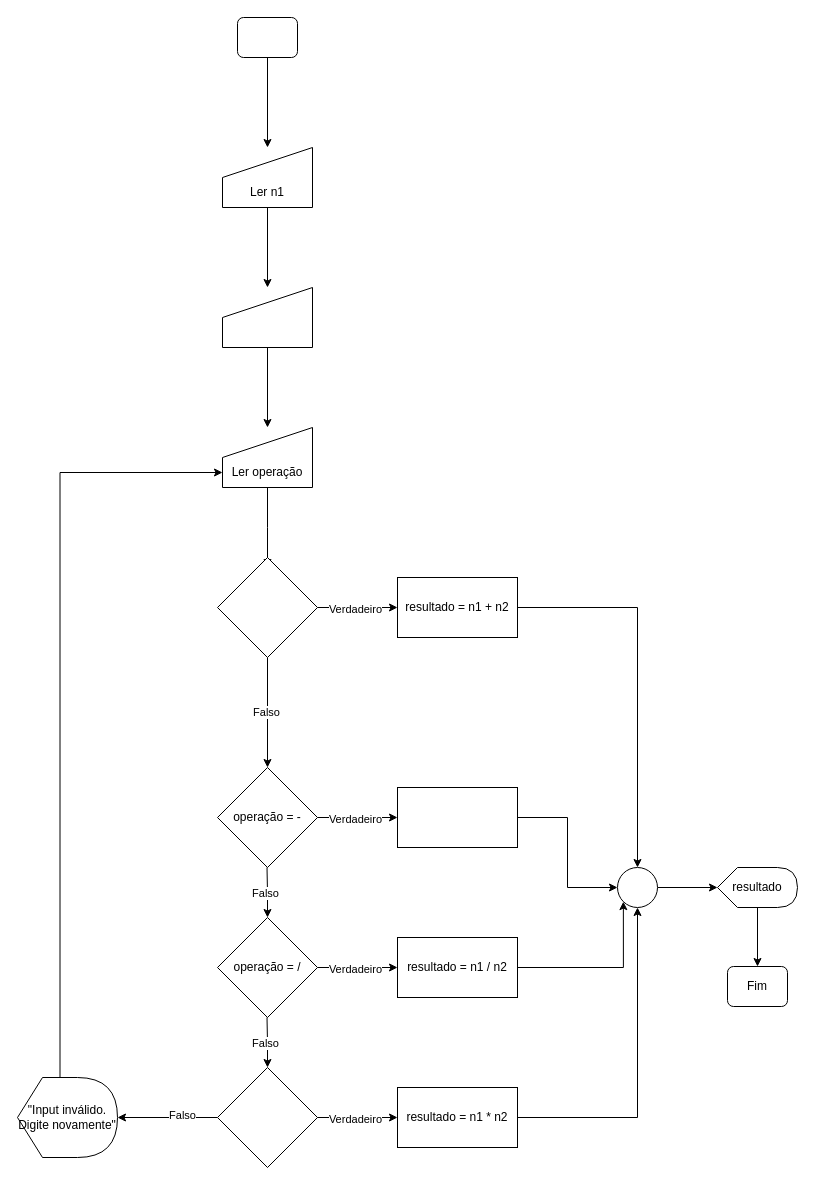
The diagram is 815 pixels wide and 1185 high, and some of its shapes have lost their labels. Each missing label, with the centre of its shape:
"Início" belongs at pixel 267 37.
"Ler n2" belongs at pixel 267 317.
"operação = *" belongs at pixel 267 1117.
"operação = +" belongs at pixel 267 607.
"resultado = n1 - n2" belongs at pixel 457 817.
